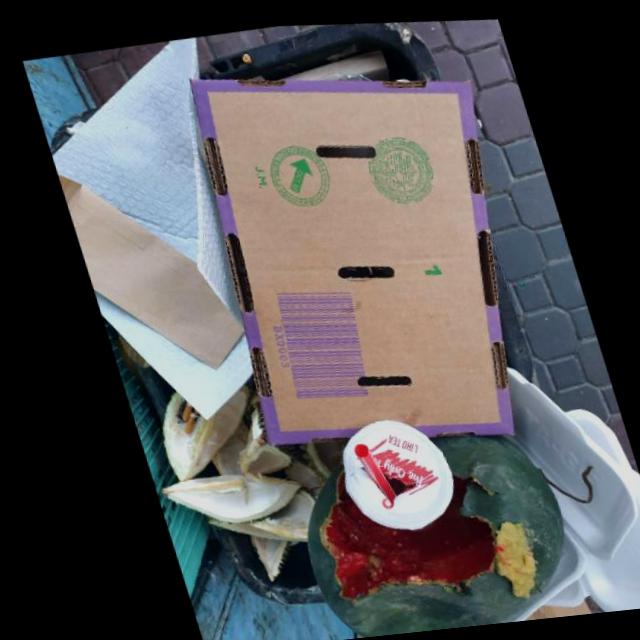carton: (187, 70, 505, 441)
giay: (54, 173, 236, 366)
hop_nhua: (333, 415, 442, 525)
ong_hut_nhua: (344, 439, 385, 499)
vo_trai_cay: (295, 426, 552, 638), (151, 469, 290, 520), (196, 486, 304, 538), (230, 404, 291, 470), (239, 533, 280, 579)
xop: (497, 358, 626, 616), (531, 400, 640, 612)
